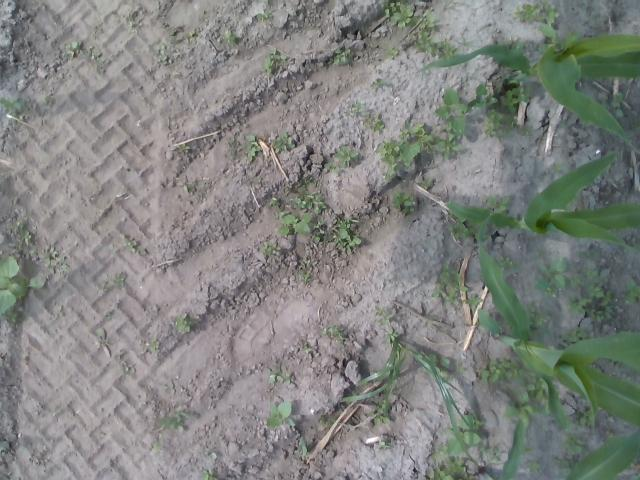Maize: (469, 209, 640, 433), (415, 20, 640, 153), (445, 149, 640, 254), (480, 388, 640, 480)
Weeds: (336, 342, 476, 460), (429, 412, 484, 480), (375, 122, 428, 182), (0, 255, 45, 316), (566, 277, 614, 324), (408, 31, 472, 61), (431, 262, 469, 306), (484, 109, 534, 142), (536, 250, 568, 298), (434, 88, 466, 136), (476, 356, 526, 384), (535, 25, 580, 52), (332, 214, 362, 254), (428, 124, 462, 158), (524, 299, 552, 339), (512, 0, 558, 24), (294, 184, 326, 214), (158, 404, 191, 433), (274, 210, 312, 235), (381, 0, 414, 28), (500, 84, 530, 113), (468, 83, 498, 111), (265, 401, 295, 429), (598, 90, 625, 120), (448, 212, 474, 241), (40, 246, 69, 272), (10, 219, 32, 251), (572, 404, 600, 428), (366, 400, 391, 426), (262, 47, 286, 74), (0, 96, 29, 118), (392, 190, 416, 216), (484, 192, 512, 214), (561, 433, 587, 455), (98, 273, 125, 294), (264, 366, 294, 384), (553, 456, 577, 478), (332, 146, 358, 166), (244, 134, 262, 162), (562, 326, 590, 344), (411, 12, 437, 31), (624, 278, 640, 306), (274, 132, 296, 152), (298, 258, 316, 282), (360, 114, 384, 132), (312, 220, 329, 244), (582, 265, 606, 281), (374, 305, 394, 324), (497, 255, 518, 273), (506, 37, 527, 55), (481, 444, 499, 463), (464, 293, 482, 311), (174, 315, 192, 333), (332, 48, 351, 65), (346, 101, 366, 117), (322, 325, 344, 339), (260, 242, 282, 256), (152, 43, 168, 62), (383, 327, 399, 345), (86, 49, 104, 65), (64, 40, 80, 57), (2, 311, 24, 323), (122, 238, 137, 253), (317, 417, 337, 428), (528, 458, 540, 475), (296, 176, 316, 186), (298, 436, 308, 456), (200, 469, 218, 480), (223, 30, 236, 44), (370, 77, 385, 89), (324, 162, 341, 172), (384, 46, 398, 58), (230, 138, 238, 158), (204, 448, 217, 460), (438, 0, 454, 9), (550, 162, 562, 174), (456, 362, 466, 376), (268, 197, 280, 208), (421, 177, 433, 188), (184, 29, 196, 40), (257, 10, 270, 20), (523, 444, 535, 454), (631, 120, 640, 132), (148, 340, 158, 350), (154, 442, 163, 452), (378, 442, 389, 450), (178, 143, 189, 151), (301, 346, 312, 354), (128, 20, 136, 30), (28, 248, 38, 256), (184, 185, 192, 194), (96, 328, 105, 336), (42, 96, 52, 102), (168, 381, 175, 389), (122, 368, 129, 375), (284, 184, 290, 192), (256, 179, 260, 185), (264, 0, 268, 2)
